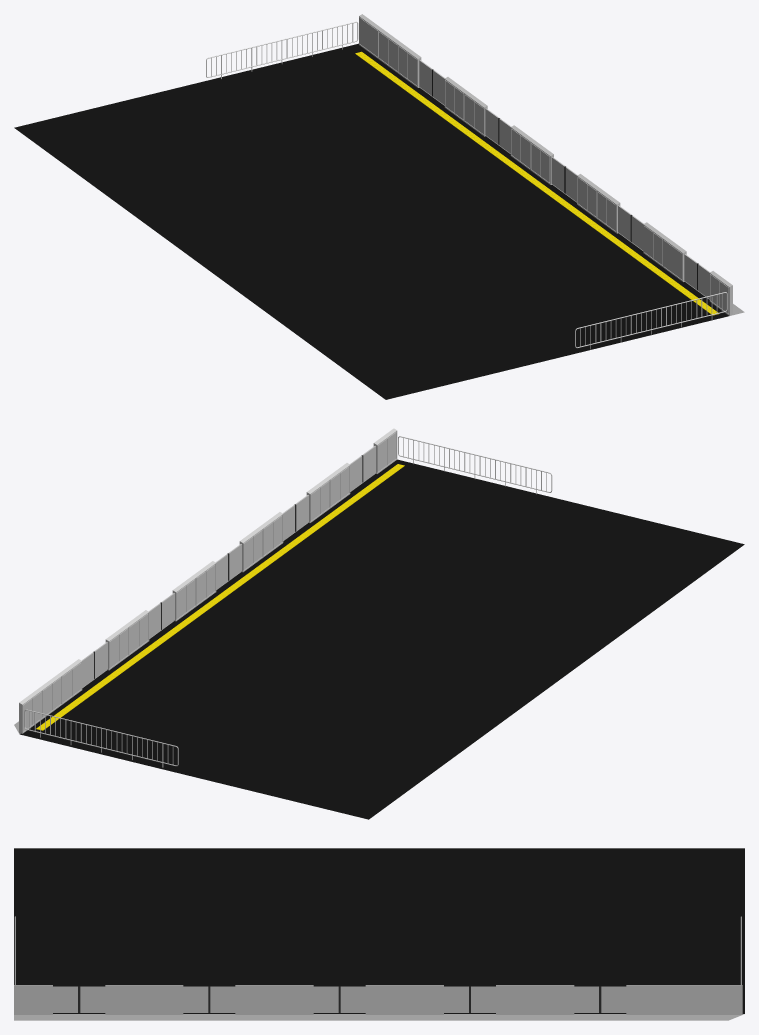
The model's file is frmn_station.fbx.
3 renders of one model, top to bottom at view 1: azimuth 30°, elevation 25°; view 2: azimuth 150°, elevation 25°; view 3: azimuth 270°, elevation 25°, orthographic. The views are drawn at different scales.
Parts seen in each view (by area): view 1: 床, ホームドア_壁, 点字ブロック, ホームドア_ドア_左, ホームドア_ドア_右, 柵, 柵2, ホームドア_壁_short, ホームドア_壁_short2; view 2: 床, ホームドア_壁, 点字ブロック, ホームドア_ドア_右, ホームドア_ドア_左, 柵2, 柵, ホームドア_壁_short2, ホームドア_壁_short; view 3: 床, ホームドア_壁, ホームドア_ドア_左, ホームドア_ドア_右, ホームドア_壁_short2, ホームドア_壁_short.
Part boxes in pixels (x1,y1,x2,y2): 床: (14, 43, 744, 399); ホームドア_壁: (378, 28, 686, 281); 点字ブロック: (355, 51, 719, 315); ホームドア_ドア_左: (419, 60, 697, 289); ホームドア_ドア_右: (432, 69, 709, 298); 柵: (575, 292, 727, 349); 柵2: (206, 21, 358, 78); ホームドア_壁_short: (709, 271, 732, 315); ホームドア_壁_short2: (359, 14, 381, 58); 床: (14, 459, 744, 819); ホームドア_壁: (39, 463, 350, 719); 点字ブロック: (36, 464, 404, 730); ホームドア_ドア_右: (93, 446, 375, 678); ホームドア_ドア_左: (82, 455, 362, 687); 柵2: (24, 709, 178, 767); 柵: (398, 436, 552, 494); ホームドア_壁_short2: (19, 688, 42, 733); ホームドア_壁_short: (373, 428, 397, 473); 床: (14, 848, 744, 1020); ホームドア_壁: (105, 985, 704, 1014); ホームドア_ドア_左: (79, 986, 626, 1012); ホームドア_ドア_右: (53, 986, 600, 1012); ホームドア_壁_short2: (703, 985, 742, 1014); ホームドア_壁_short: (14, 985, 52, 1014).
Size of the model in its own units: 1565 by 127 by 2806.
